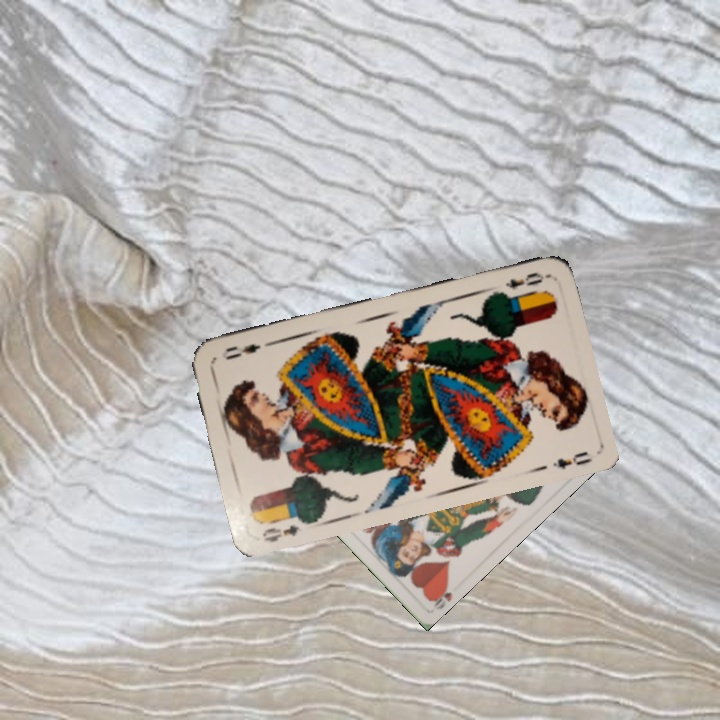EO: (501, 268, 551, 292), (258, 521, 302, 545)
HO: (425, 579, 455, 612)
